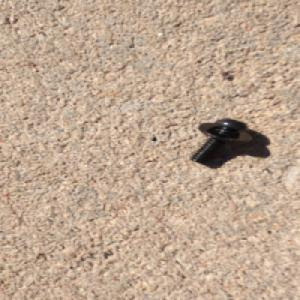BoltWasher: (188, 117, 254, 163)
